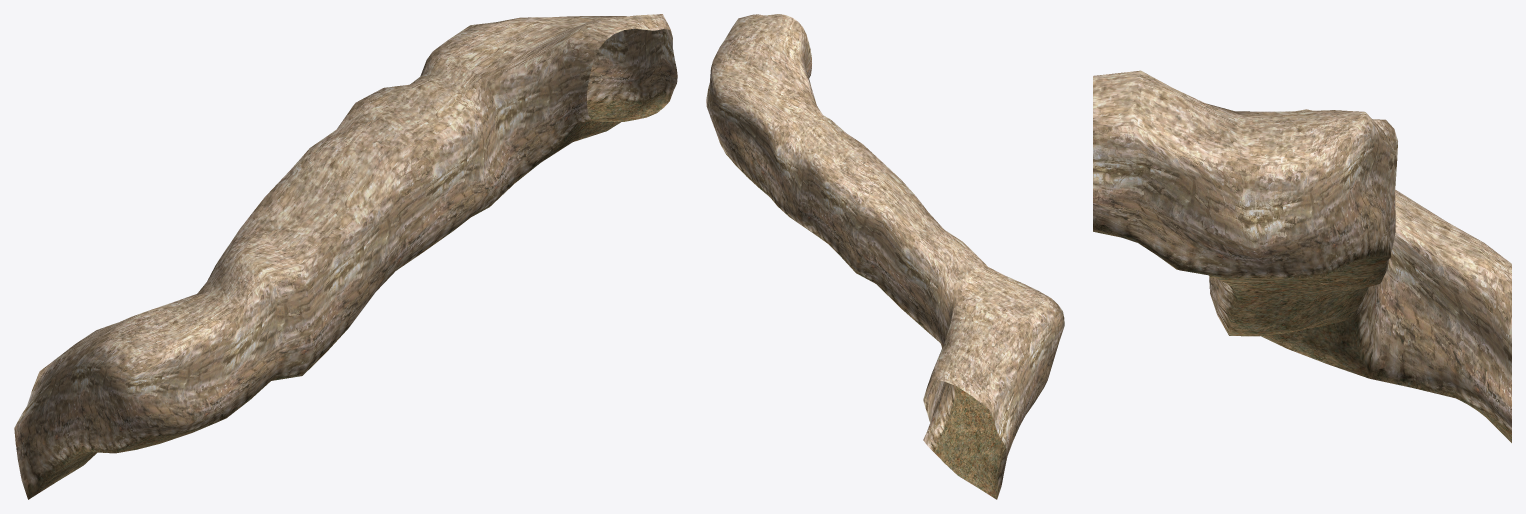
The model's file is thm_all_cave_s02_mirror_r1_mesh_r1.fbx.
3 views of the same model, side by side, from view 1: azimuth 30°, elevation 25°; view 2: azimuth 150°, elevation 25°; view 3: azimuth 270°, elevation 25° (orthographic). The views are drawn at different scales.
Visible parts, largest first — view 1: mesh_node; view 2: mesh_node; view 3: mesh_node.
Part boxes in pixels (x1,y1,x2,y2): mesh_node: [14, 14, 677, 499]; mesh_node: [706, 14, 1064, 499]; mesh_node: [1093, 70, 1511, 442].
Bounding box in the file's own units: 53.32 × 45.87 × 26.29.
